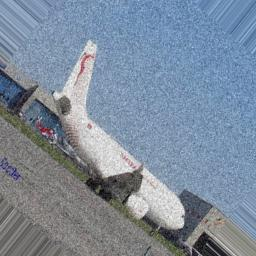Airplane: (53, 39, 187, 230)
